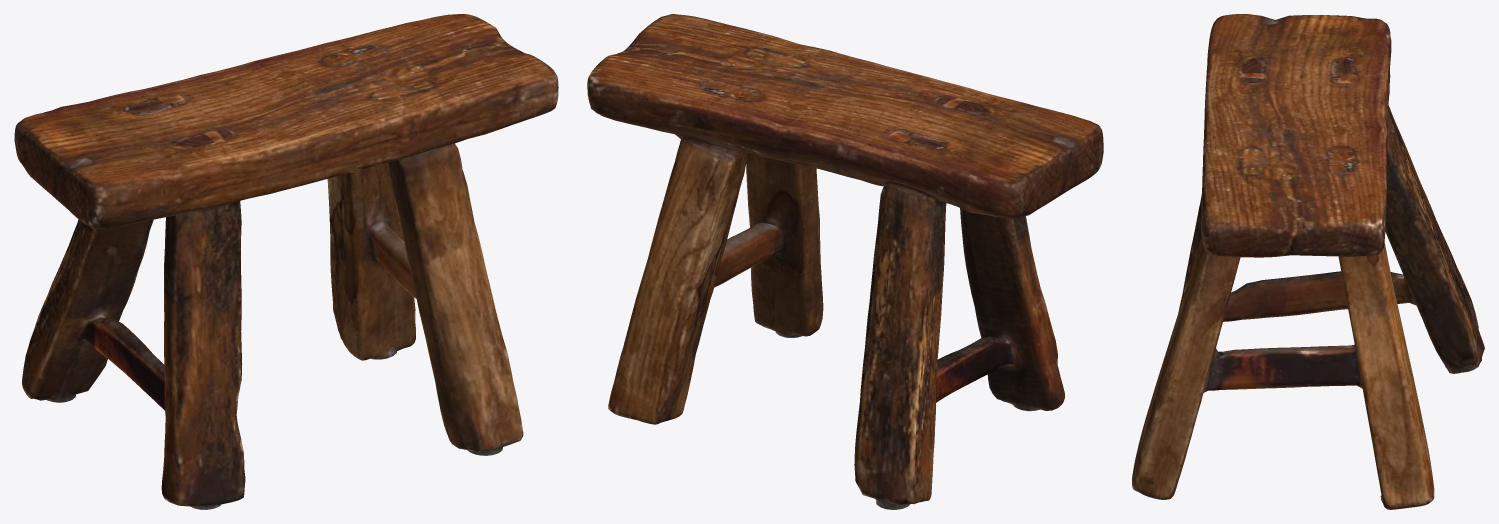
The model's file is wooden_stool_02.glb.
3 views of the same model, side by side, from view 1: azimuth 30°, elevation 25°; view 2: azimuth 150°, elevation 25°; view 3: azimuth 270°, elevation 25° (orthographic). The views are drawn at different scales.
Parts seen in each view (by area): view 1: wooden_stool_02; view 2: wooden_stool_02; view 3: wooden_stool_02.
Boxes of the visible parts, x1,y1,x2,y2 form: wooden_stool_02: (14, 14, 558, 509); wooden_stool_02: (587, 14, 1103, 509); wooden_stool_02: (1132, 14, 1484, 509).
Bounding box in the file's own units: 0.2652 × 0.1819 × 0.1831.
1 material, 1 textured.
